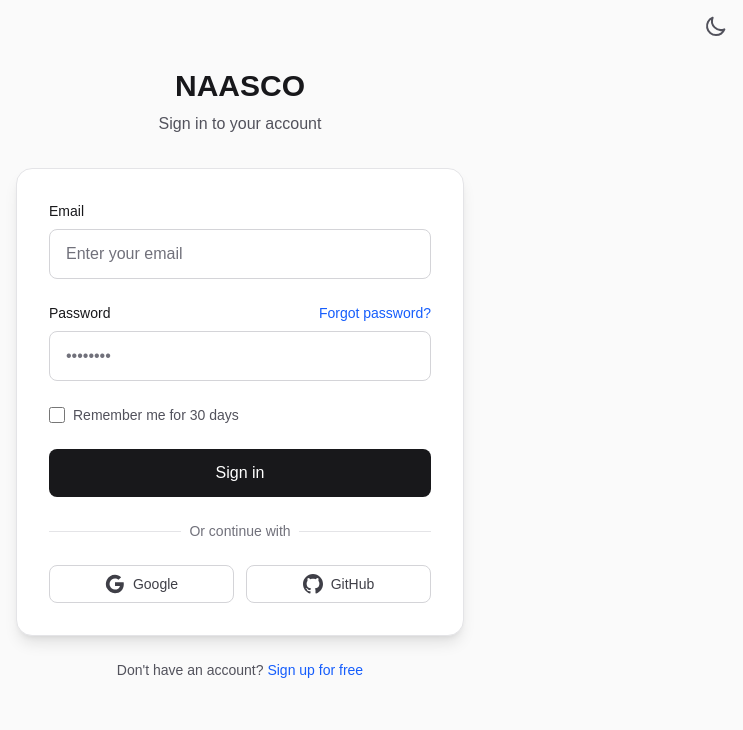
Scenario: LoginForm › Form Submission - Failure › clears error message on new submission attempt
Step 1. Type "test@example.com" into the field labelled "Email" → point(240, 254), box [49,229,431,279]
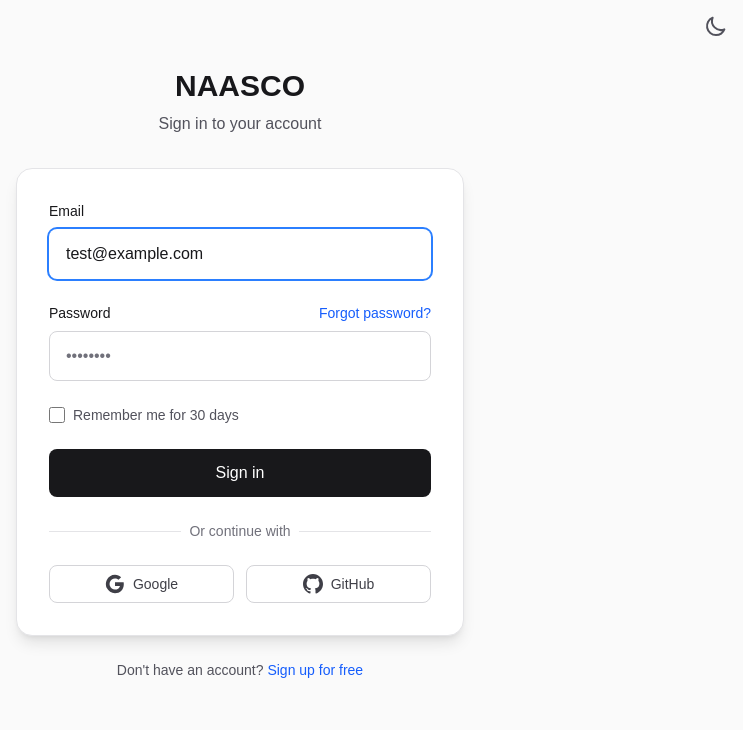
Step 2. Type "wrongpassword" into the password field labelled "Password" → point(240, 356), box [49,331,431,381]
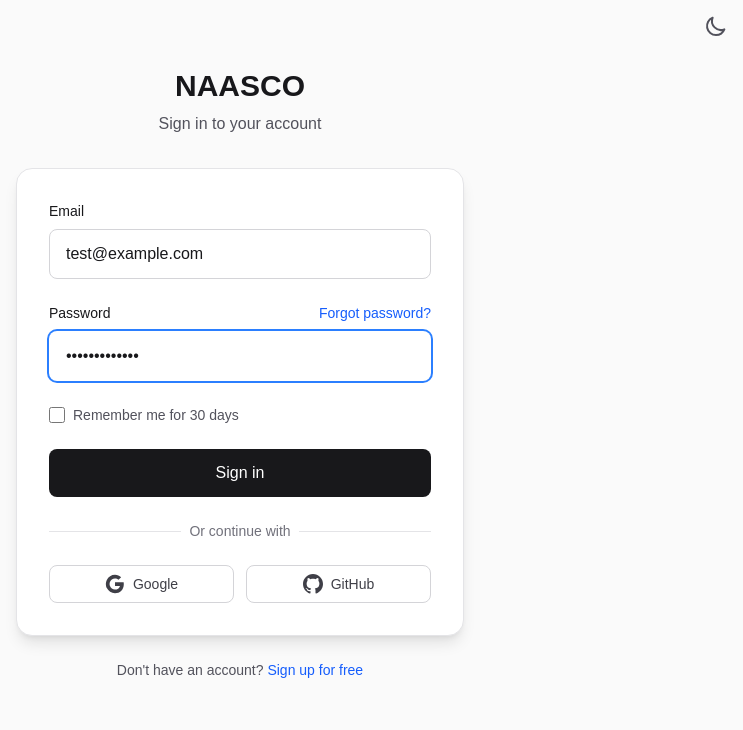
Step 3. Click the button "Sign in" → point(240, 473), box [49,449,431,497]
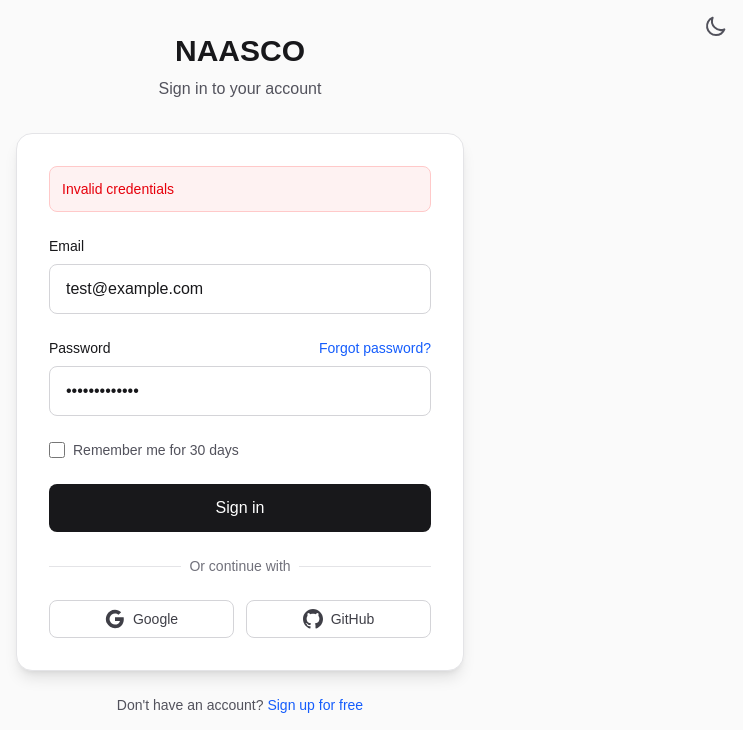
Expected: the text "Invalid credentials" is shown, [62,181,174,197]
Step 4. Type "correctpassword" into the password field labelled "Password" → point(240, 391), box [49,366,431,416]
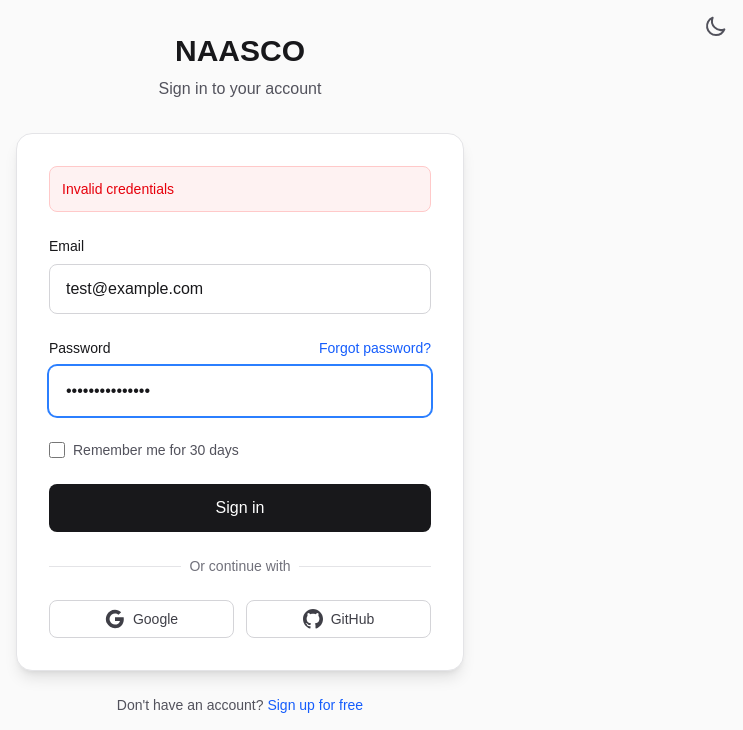
Step 5. Click the button "Sign in" → point(240, 508), box [49,484,431,532]
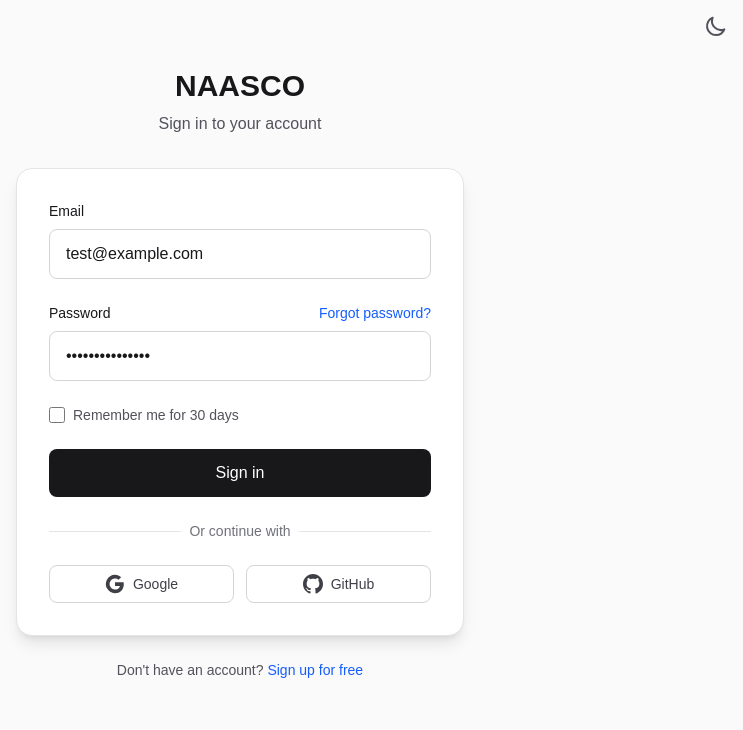
Expected: the text "Invalid credentials" is gone
